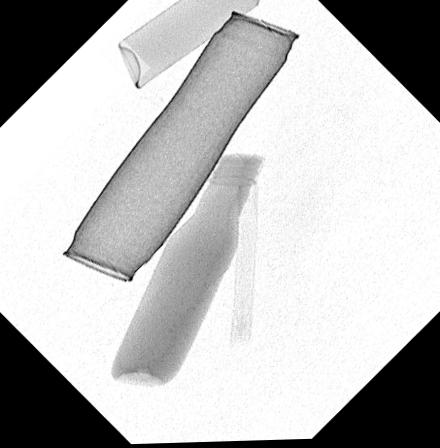Sprayer: (119, 0, 259, 88)
